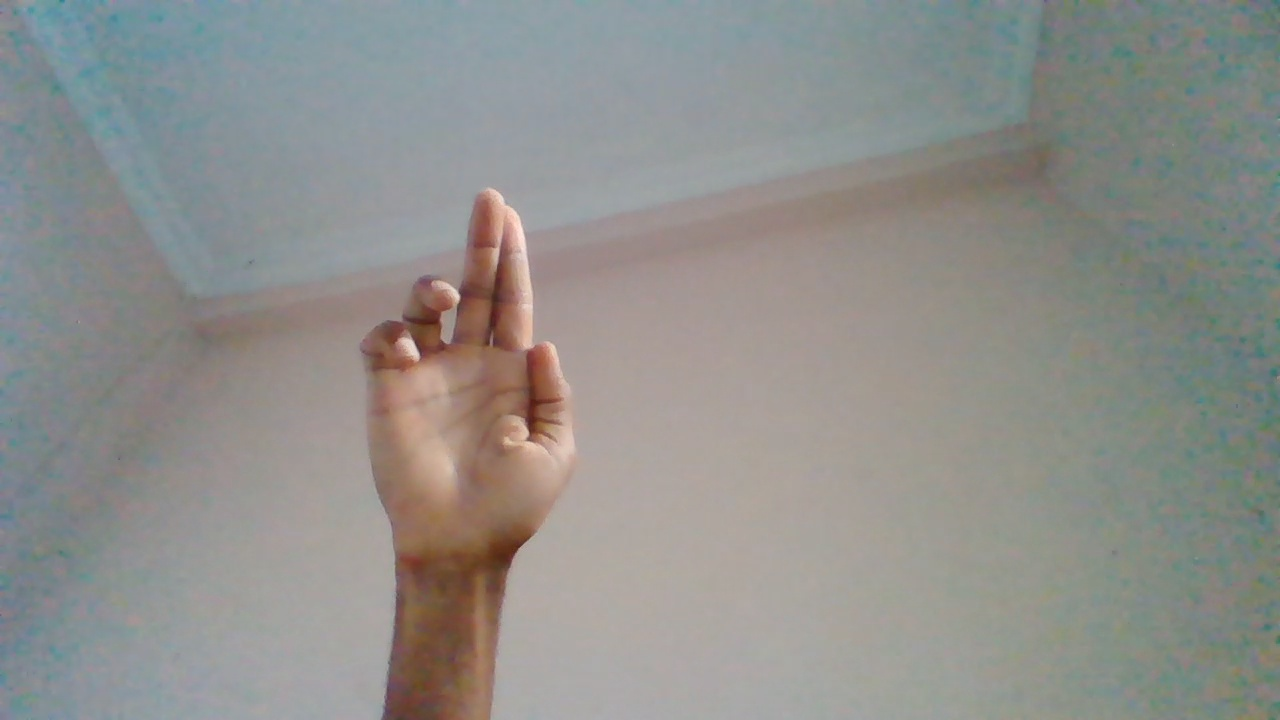gne: (361, 188, 586, 659)
